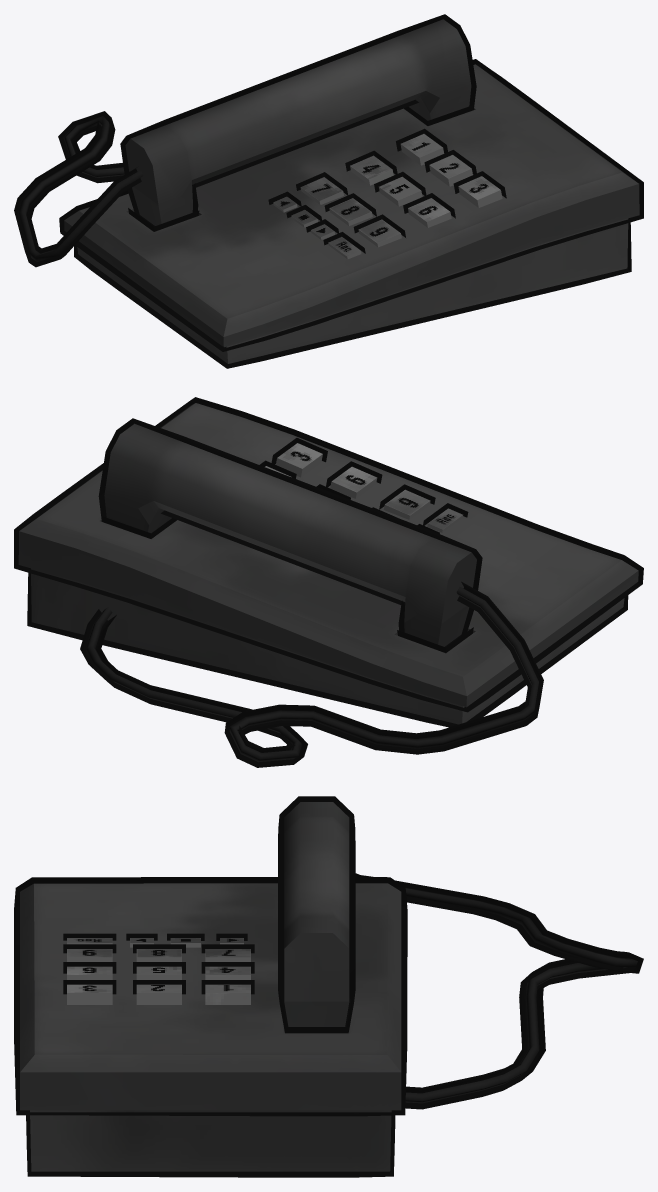
File: Telefone mesa.glb
3 renders of one model, top to bottom at view 1: azimuth 30°, elevation 25°; view 2: azimuth 150°, elevation 25°; view 3: azimuth 270°, elevation 25°, orthographic. The views are drawn at different scales.
Visible parts, largest first — view 1: Telefone mesa; view 2: Telefone mesa; view 3: Telefone mesa.
Part boxes in pixels (x1,y1,x2,y2): Telefone mesa: (14, 14, 643, 368); Telefone mesa: (14, 397, 643, 767); Telefone mesa: (14, 796, 643, 1177).
Size of the model in its own units: 2.87 by 1.05 by 2.79.
Materials: 2 (1 with a texture image).
